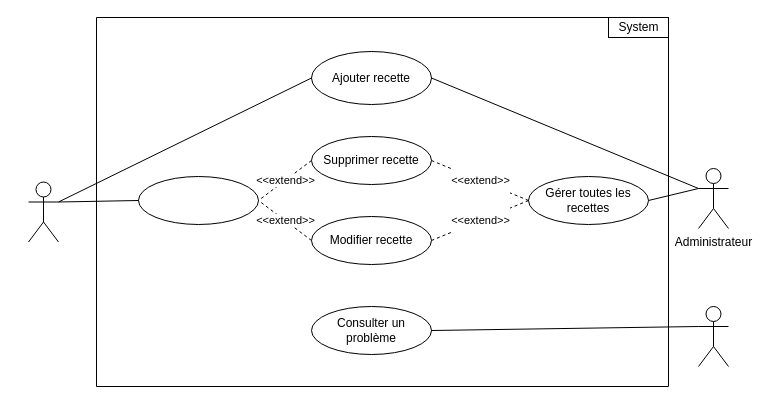
The diagram is 769 pixels wide and 405 high, and some of its shapes have lost their labels. Each missing label, with the centre of its shape:
Gérer recette: the point at 198,200
Technicien: the point at 713,336
Utilisateur: the point at 43,211
